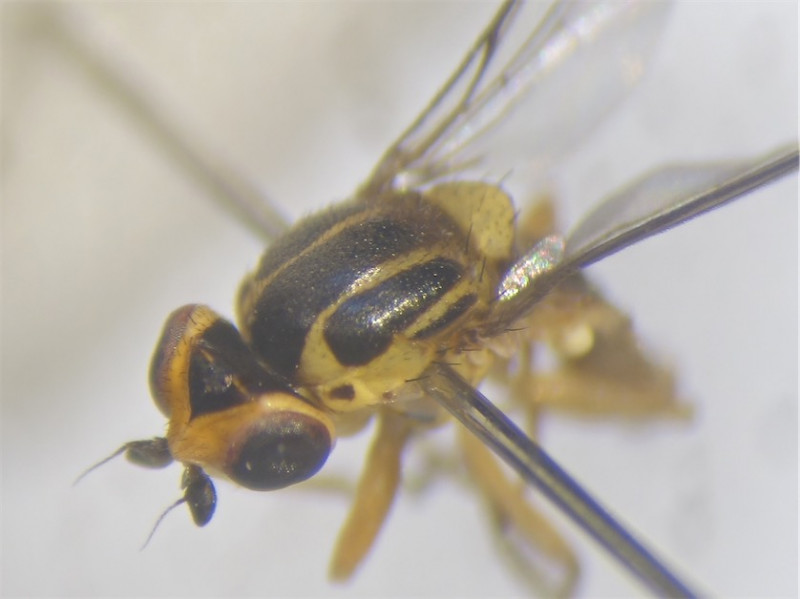Chloropidae: (66, 1, 680, 587)
